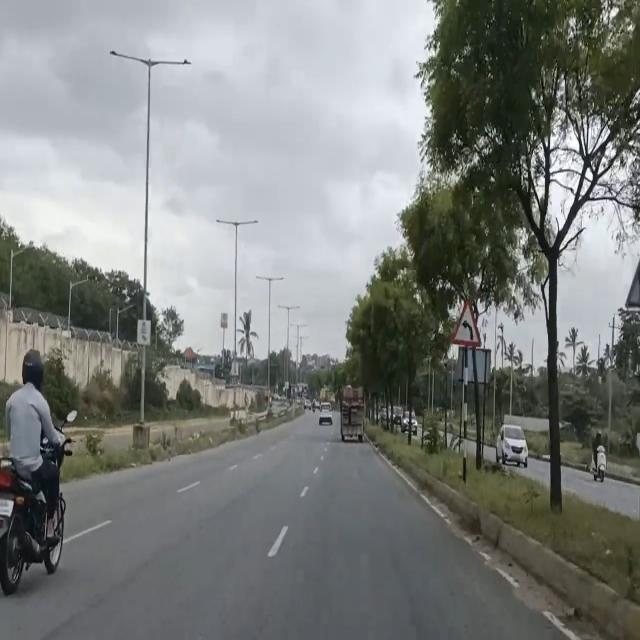bien_nguy_hiem: (450, 297, 483, 350)
